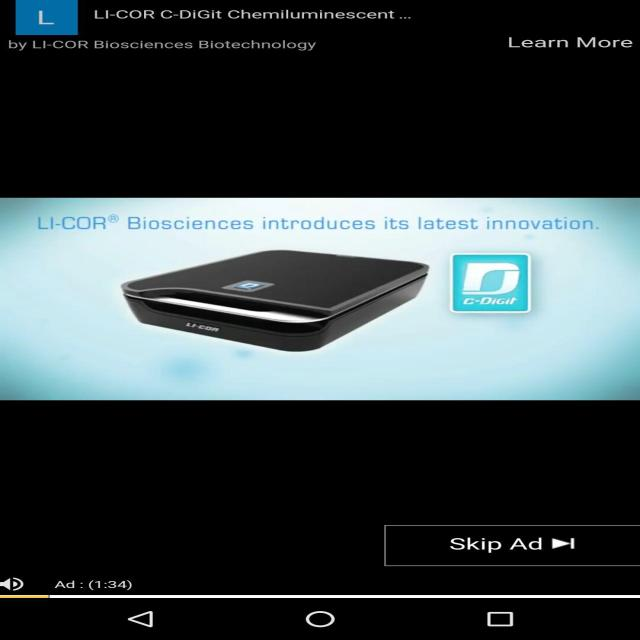image: (6, 197, 640, 404)
